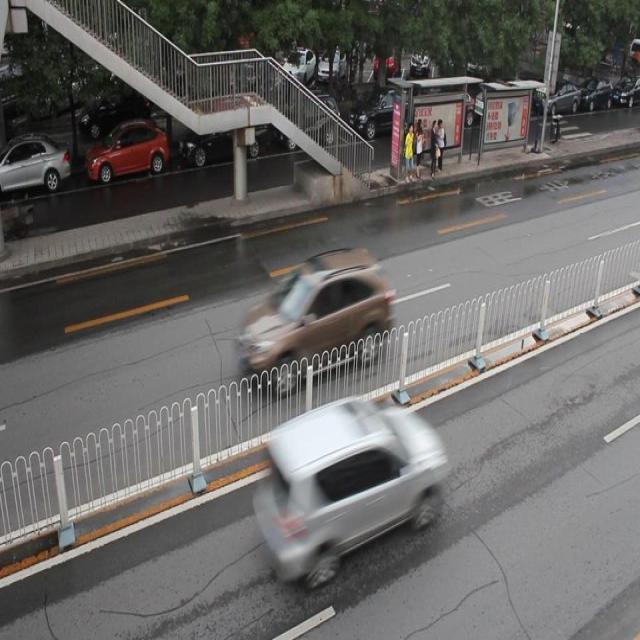car: (256, 399, 446, 588), (237, 246, 390, 392), (85, 118, 166, 184), (179, 107, 266, 163), (1, 137, 70, 196), (347, 84, 415, 142), (278, 92, 341, 153)
